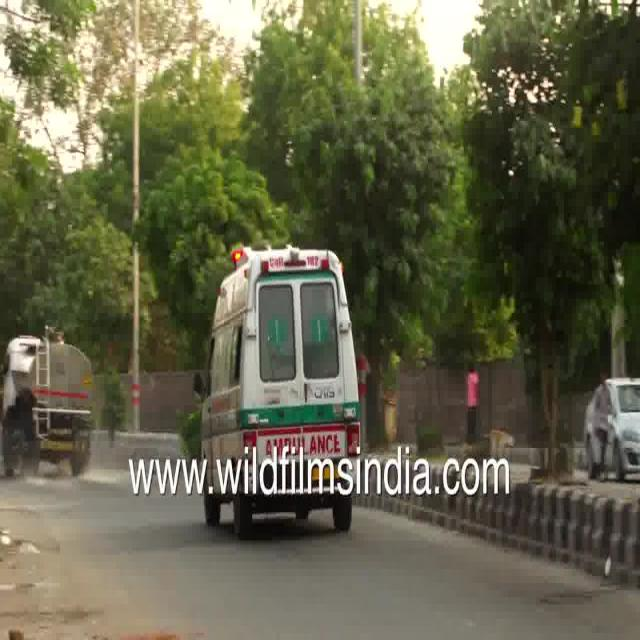ambulance: (195, 221, 394, 528)
